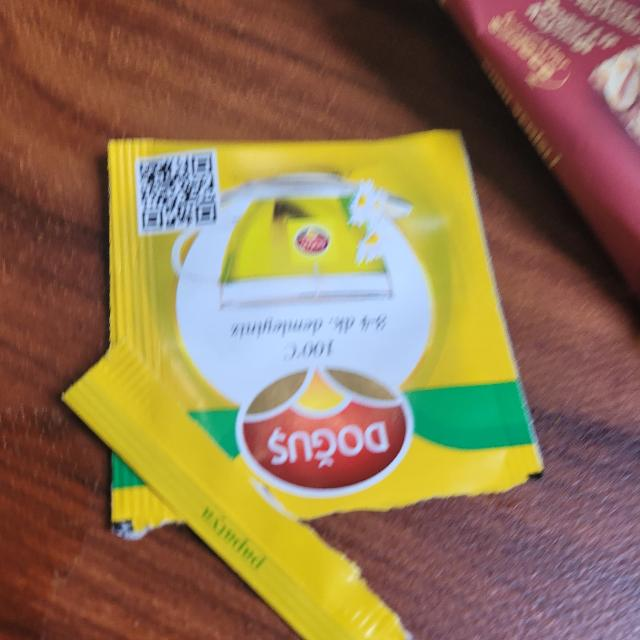Plastik: (104, 132, 535, 591)
